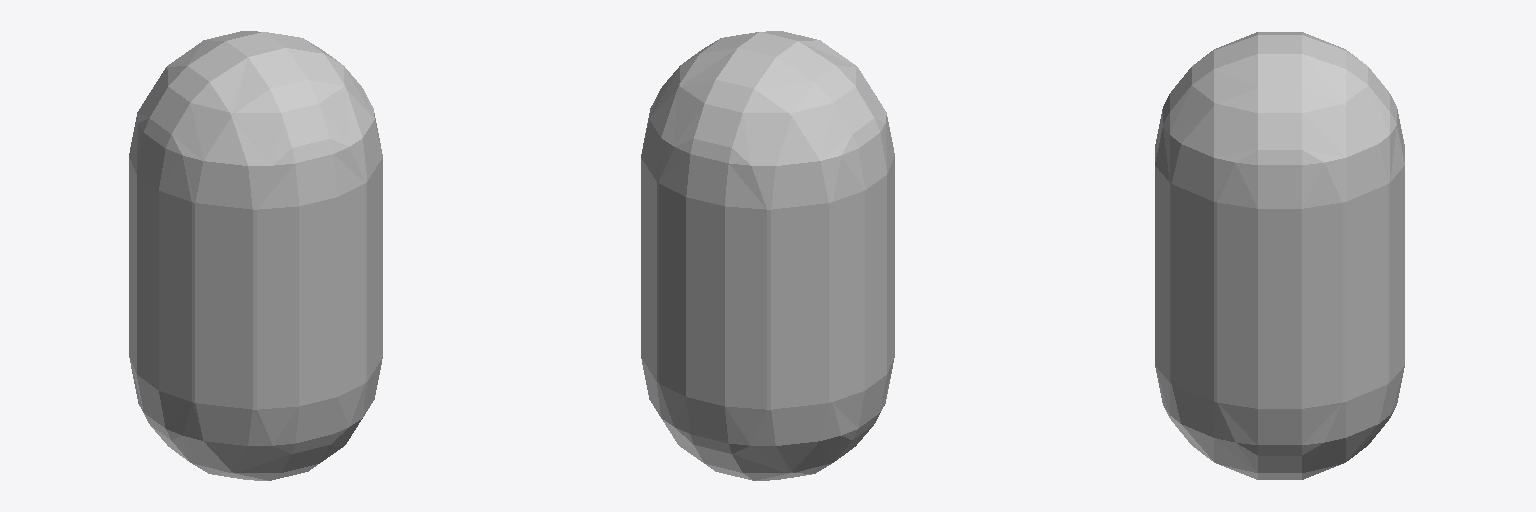
3 views of the same model, side by side, from view 1: azimuth 30°, elevation 25°; view 2: azimuth 150°, elevation 25°; view 3: azimuth 270°, elevation 25° (orthographic).
Visible parts, largest first — view 1: Mball; view 2: Mball; view 3: Mball.
Boxes of the visible parts, x1,y1,x2,y2 form: Mball: [129, 31, 382, 480]; Mball: [641, 31, 894, 480]; Mball: [1155, 32, 1404, 479].
Bounding box in the file's own units: 1.13 × 2.12 × 1.13.